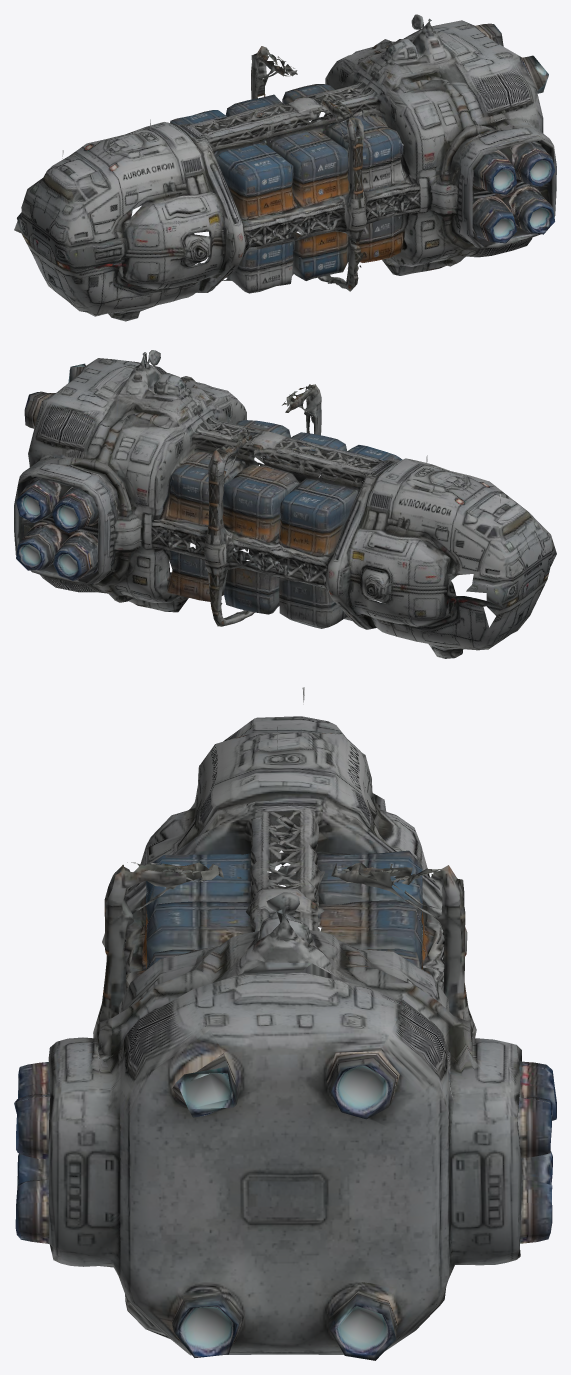
Rendered from freighter.glb.
The picture shows the model from 3 angles, top to bottom: view 1: azimuth 30°, elevation 25°; view 2: azimuth 150°, elevation 25°; view 3: azimuth 270°, elevation 25°; orthographic projection. The views are drawn at different scales.
Parts seen in each view (by area): view 1: tripo_node_d01c6cfb; view 2: tripo_node_d01c6cfb; view 3: tripo_node_d01c6cfb.
Boxes of the visible parts, x1,y1,x2,y2 form: tripo_node_d01c6cfb: (14,14,556,321); tripo_node_d01c6cfb: (14,350,556,658); tripo_node_d01c6cfb: (14,687,556,1360).
Size of the model in its own units: 94.53 by 46.52 by 53.35.
1 material, 1 textured.
